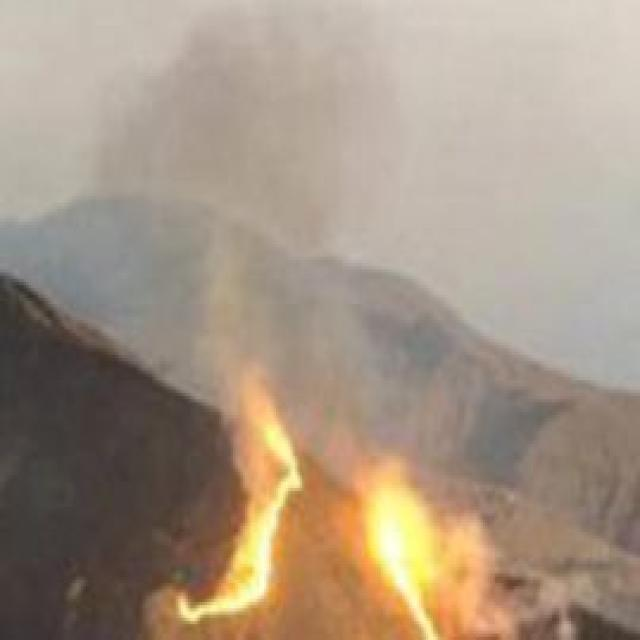Fire: (181, 389, 312, 634), (354, 447, 481, 638)
Smoke: (106, 3, 426, 371)
